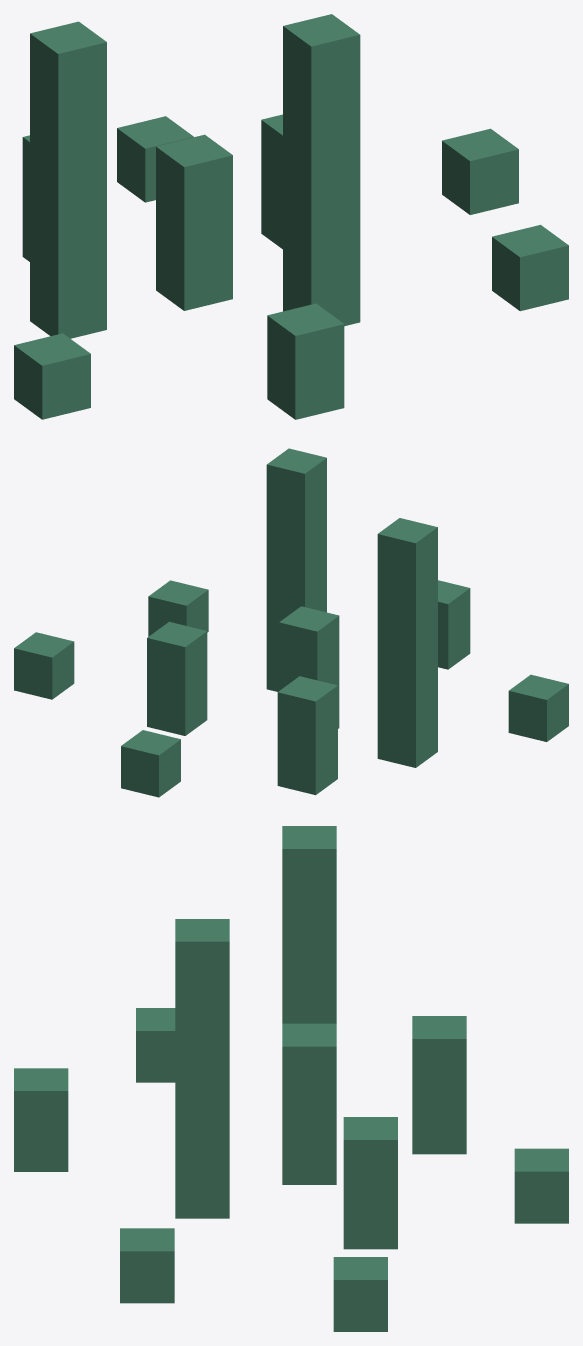
Rendered from naturePack_041.fbx.
3 views of the same model, one above another, from view 1: azimuth 30°, elevation 25°; view 2: azimuth 150°, elevation 25°; view 3: azimuth 270°, elevation 25° (orthographic). The views are drawn at different scales.
Visible parts, largest first — view 1: Mesh2_Group1 Model, Mesh5_Group1 Model, Mesh1_Group1 Model, Mesh8_Group1 Model, Mesh7_Group1 Model, Mesh9_Group1 Model, Mesh10_Group1 Model, Mesh6_Group1 Model, Mesh4_Group1 Model, Mesh3_Group1 Model; view 2: Mesh2_Group1 Model, Mesh5_Group1 Model, Mesh3_Group1 Model, Mesh4_Group1 Model, Mesh1_Group1 Model, Mesh10_Group1 Model, Mesh9_Group1 Model, Mesh6_Group1 Model, Mesh8_Group1 Model, Mesh7_Group1 Model; view 3: Mesh5_Group1 Model, Mesh2_Group1 Model, Mesh1_Group1 Model, Mesh3_Group1 Model, Mesh4_Group1 Model, Mesh8_Group1 Model, Mesh7_Group1 Model, Mesh6_Group1 Model, Mesh10_Group1 Model, Mesh9_Group1 Model.
Boxes of the visible parts, x1,y1,x2,y2 form: Mesh2_Group1 Model: (30,21,106,338); Mesh5_Group1 Model: (283,14,360,326); Mesh1_Group1 Model: (156,134,232,310); Mesh8_Group1 Model: (267,303,344,419); Mesh7_Group1 Model: (492,224,568,311); Mesh9_Group1 Model: (14,333,90,419); Mesh10_Group1 Model: (442,128,518,214); Mesh6_Group1 Model: (117,116,193,202); Mesh4_Group1 Model: (261,114,282,249); Mesh3_Group1 Model: (22,135,29,261); Mesh2_Group1 Model: (377,518,437,767); Mesh5_Group1 Model: (266,448,326,691); Mesh3_Group1 Model: (277,676,337,795); Mesh4_Group1 Model: (147,621,207,735); Mesh1_Group1 Model: (279,606,339,728); Mesh10_Group1 Model: (14,632,74,699); Mesh9_Group1 Model: (508,674,568,741); Mesh6_Group1 Model: (121,730,180,797); Mesh8_Group1 Model: (438,580,470,669); Mesh7_Group1 Model: (148,580,208,636); Mesh5_Group1 Model: (175,919,229,1218); Mesh2_Group1 Model: (282,826,336,1023); Mesh1_Group1 Model: (282,1023,336,1184); Mesh3_Group1 Model: (412,1016,466,1154); Mesh4_Group1 Model: (343,1117,397,1249); Mesh8_Group1 Model: (14,1068,68,1171); Mesh7_Group1 Model: (120,1228,174,1303); Mesh6_Group1 Model: (514,1148,568,1223); Mesh10_Group1 Model: (333,1257,387,1331); Mesh9_Group1 Model: (136,1008,175,1082).
Size of the model in its own units: 1.01 by 0.48 by 0.8722.
